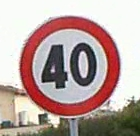limite 40: (18, 12, 120, 118)
